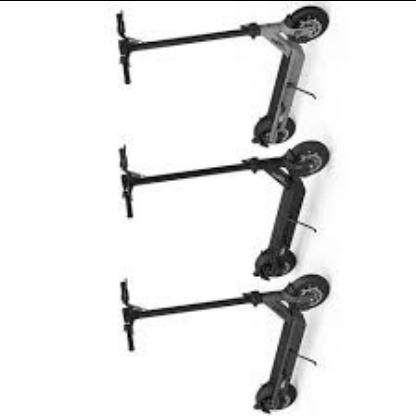bike: (115, 6, 333, 412), (116, 139, 332, 414)
